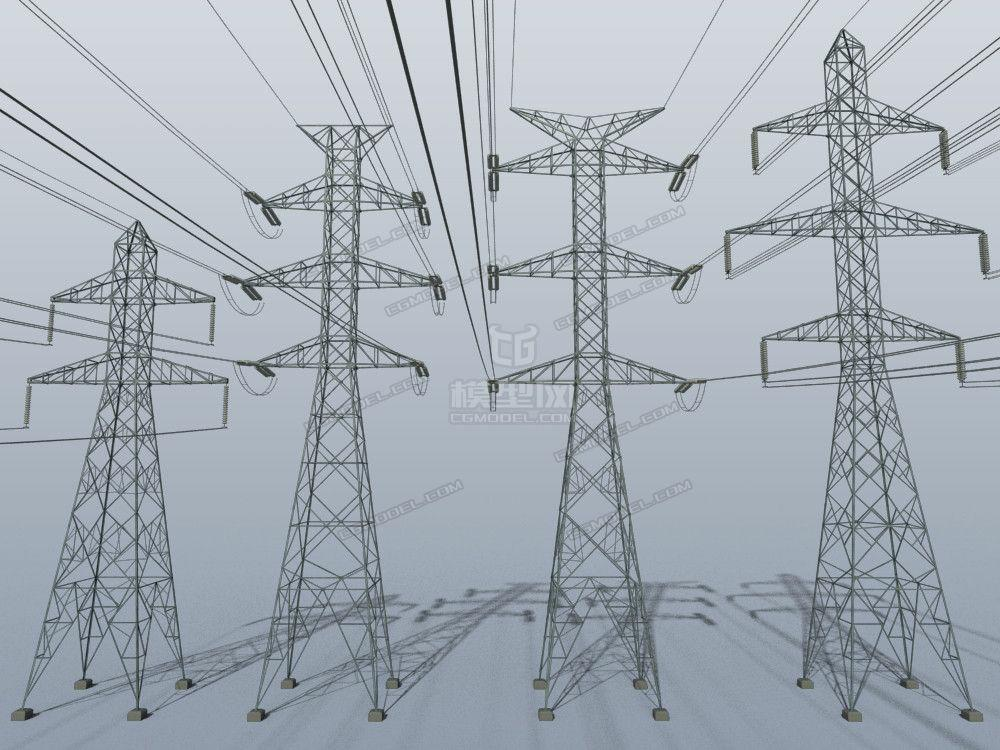power_tower: (722, 10, 987, 726), (486, 92, 730, 727), (2, 197, 228, 738), (229, 102, 416, 726)
